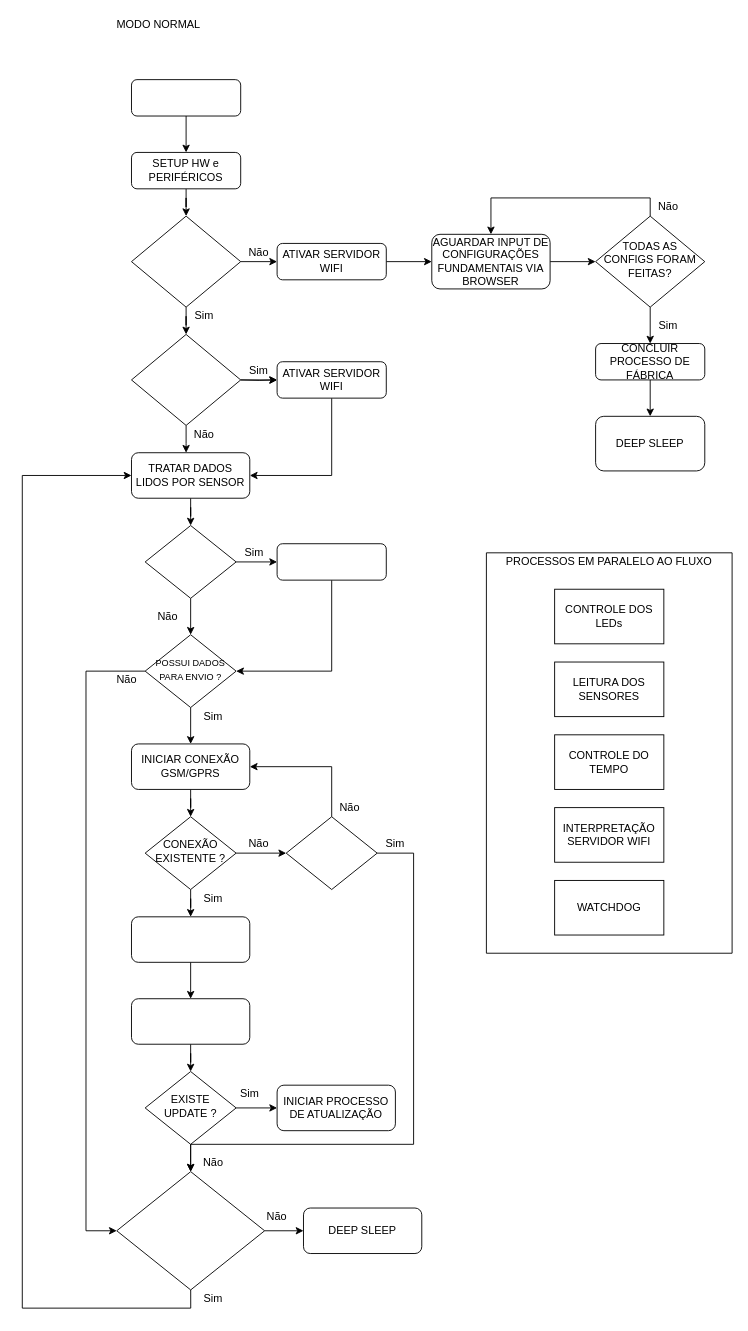
Some shapes in this 748 by 1331 pixel diagram are drawn without their labels. The shapes that lost their labels are listed below. From the top down, each one's centre as x and y in pixels, then its label:
At (186,97): "BOOT".
At (186,261): "CONFIGURAÇÃO DE FÁBRICA REALIZADO ?".
At (186,379): "ACORDADO POR SMS ?".
At (190,561): "TEMPO DE AMOSTRAGEM PASSOU ?".
At (331,561): "SALVAR AMOSTRA".
At (331,853): "TIMEOUT?".
At (190,939): "ENVIAR DADOS DISPONÍVEIS PARA ENVIO".
At (190,1021): "VERIFICA UPDATE DE CONFIGURAÇÃO OU FW".
At (190,1230): "EXISTE ALGUM PROCESSO MANTENDO O ESP ACORDADO ?".
